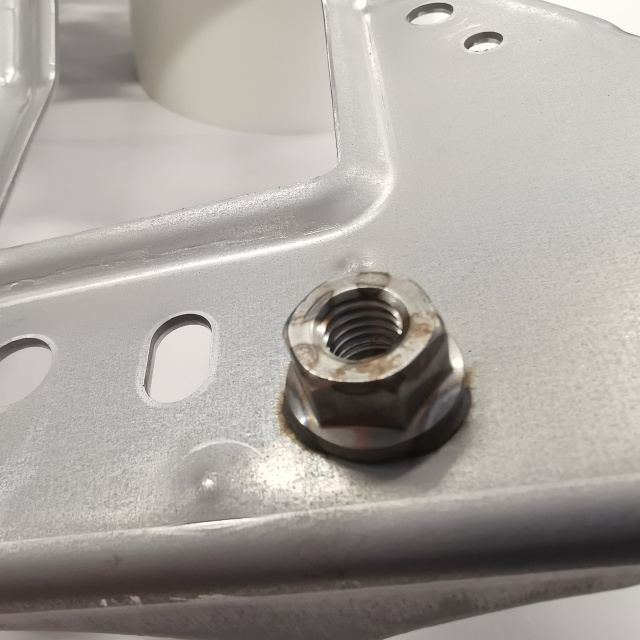dog: (274, 263, 479, 471)
